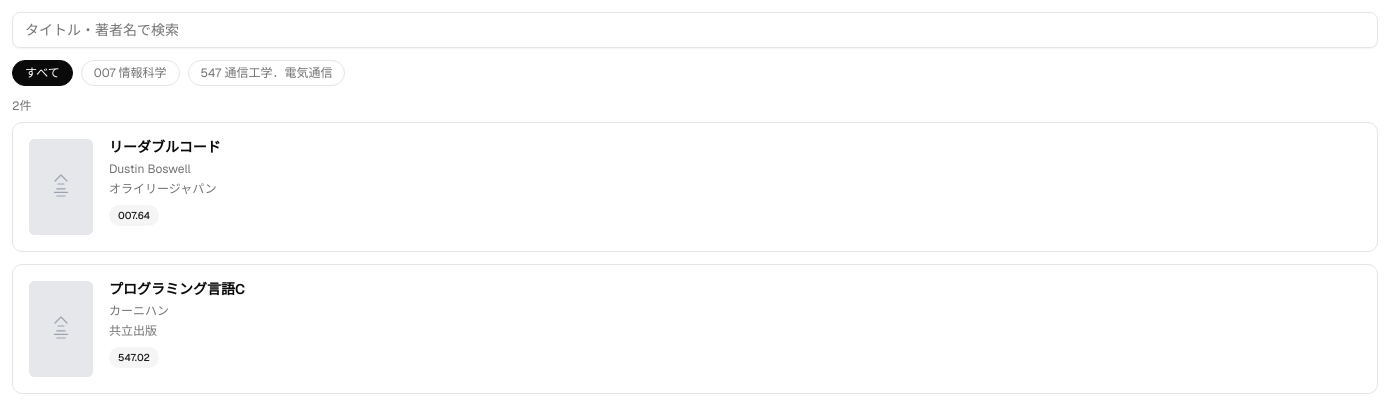
Scenario: BookList › SearchBarに入力するとタイトルでフィルタリングされる
Type "リーダブル" into the field with placeholder "タイトル・著者名で検索" at (695, 30), box [12,12,1378,48]
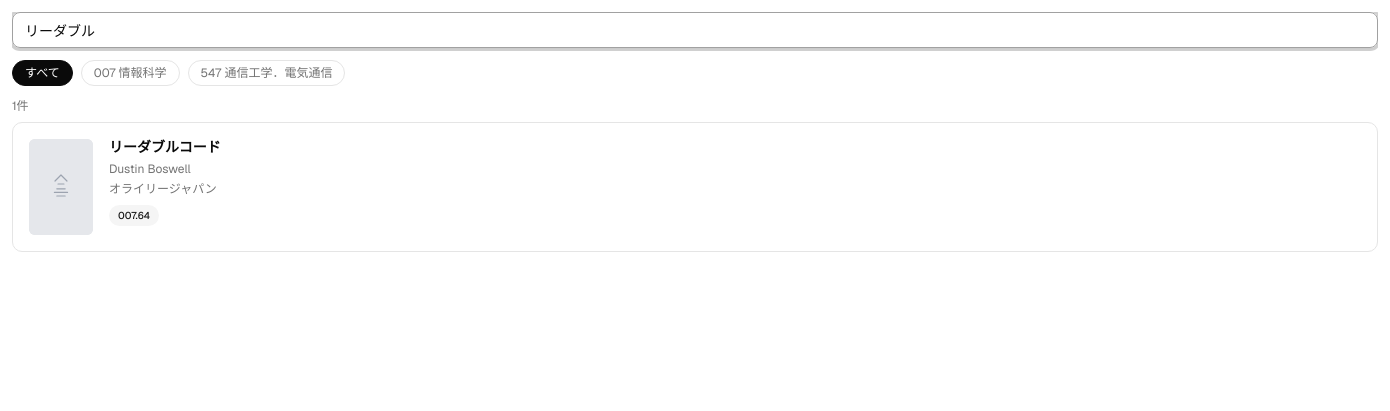
Expected: the text "リーダブルコード" is shown, [109,139,221,156]
Now the text "プログラミング言語C" is gone
